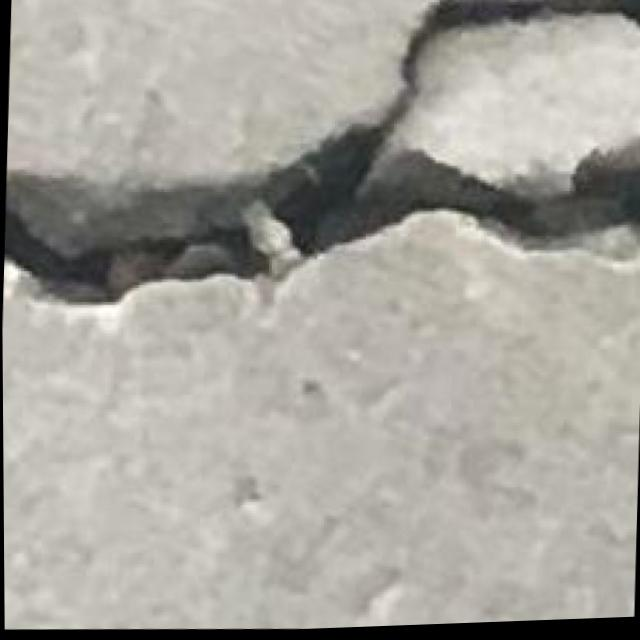Crack: (3, 0, 640, 341)
